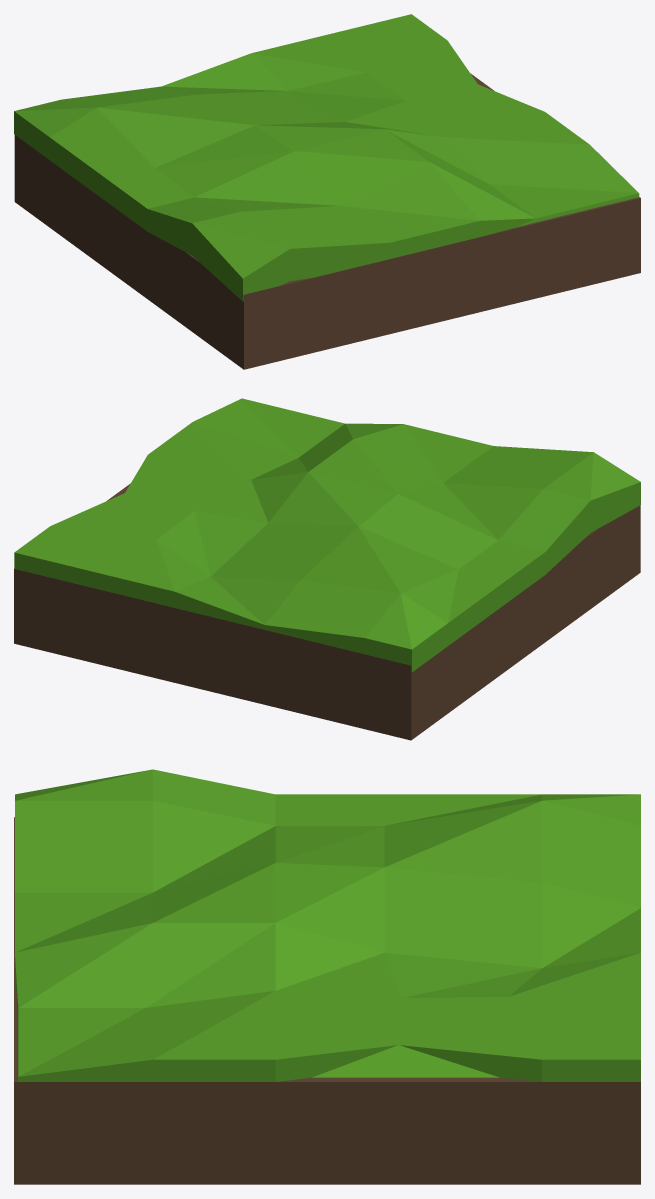
Rendered from grass.fbx.
3 views of the same model, one above another, from view 1: azimuth 30°, elevation 25°; view 2: azimuth 150°, elevation 25°; view 3: azimuth 270°, elevation 25° (orthographic). The views are drawn at different scales.
Parts seen in each view (by area): view 1: Cube; view 2: Cube; view 3: Cube.
Boxes of the visible parts, x1,y1,x2,y2 form: Cube: (14, 14, 640, 369); Cube: (14, 398, 640, 740); Cube: (14, 769, 640, 1184).
Size of the model in its own units: 1979 by 537 by 1975.
